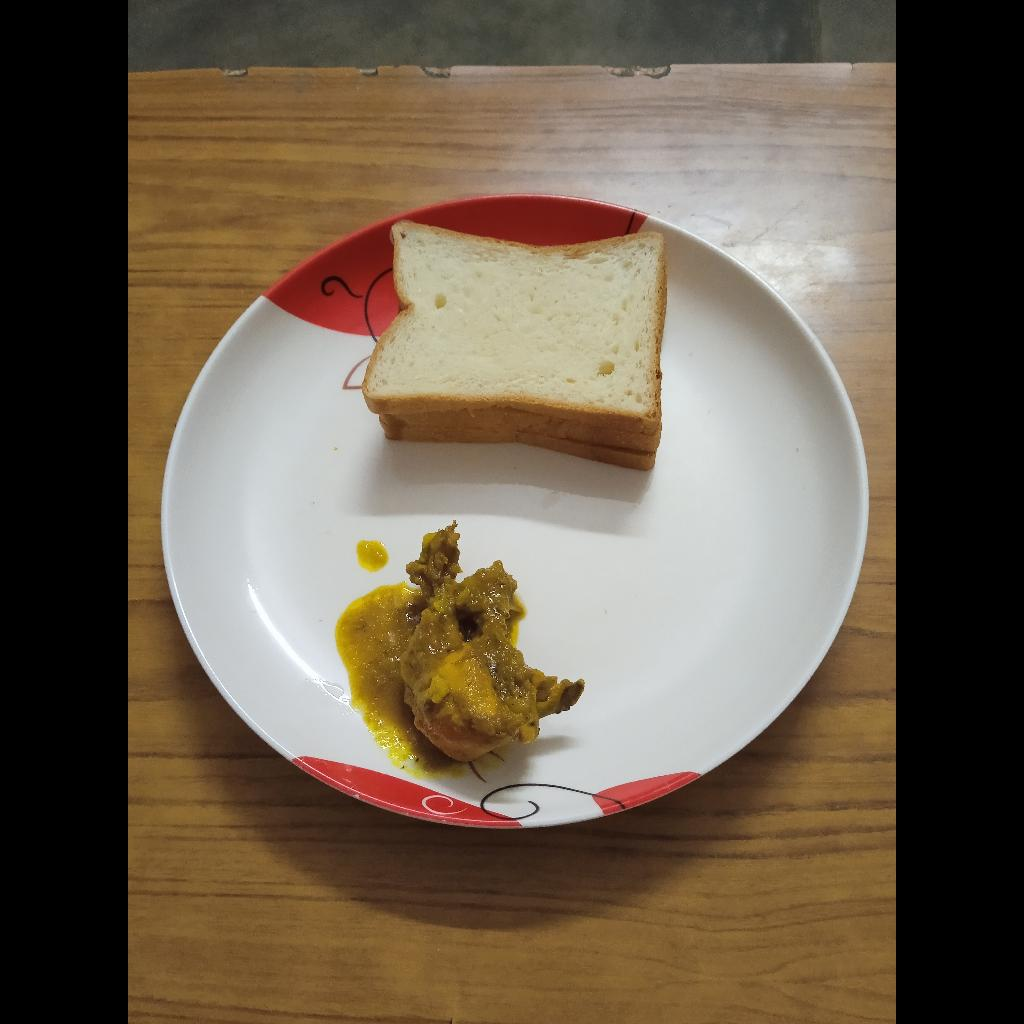bread: (362, 223, 665, 464)
chicken: (401, 522, 600, 768)
